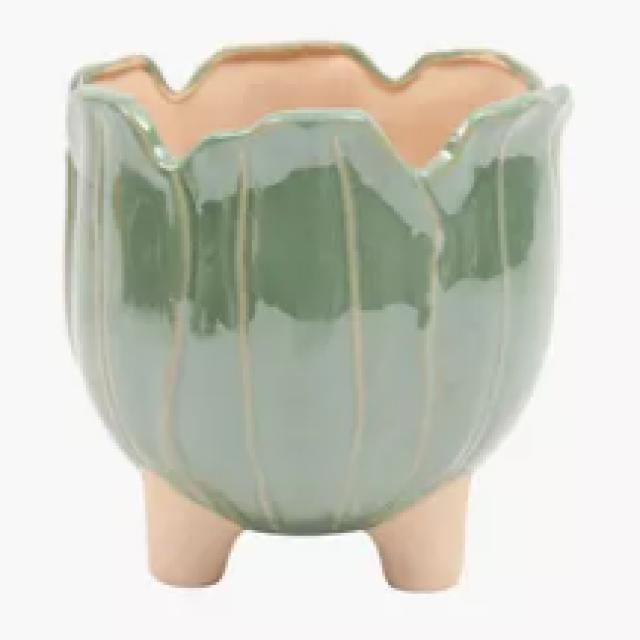Plant Pot: (51, 38, 625, 635)
